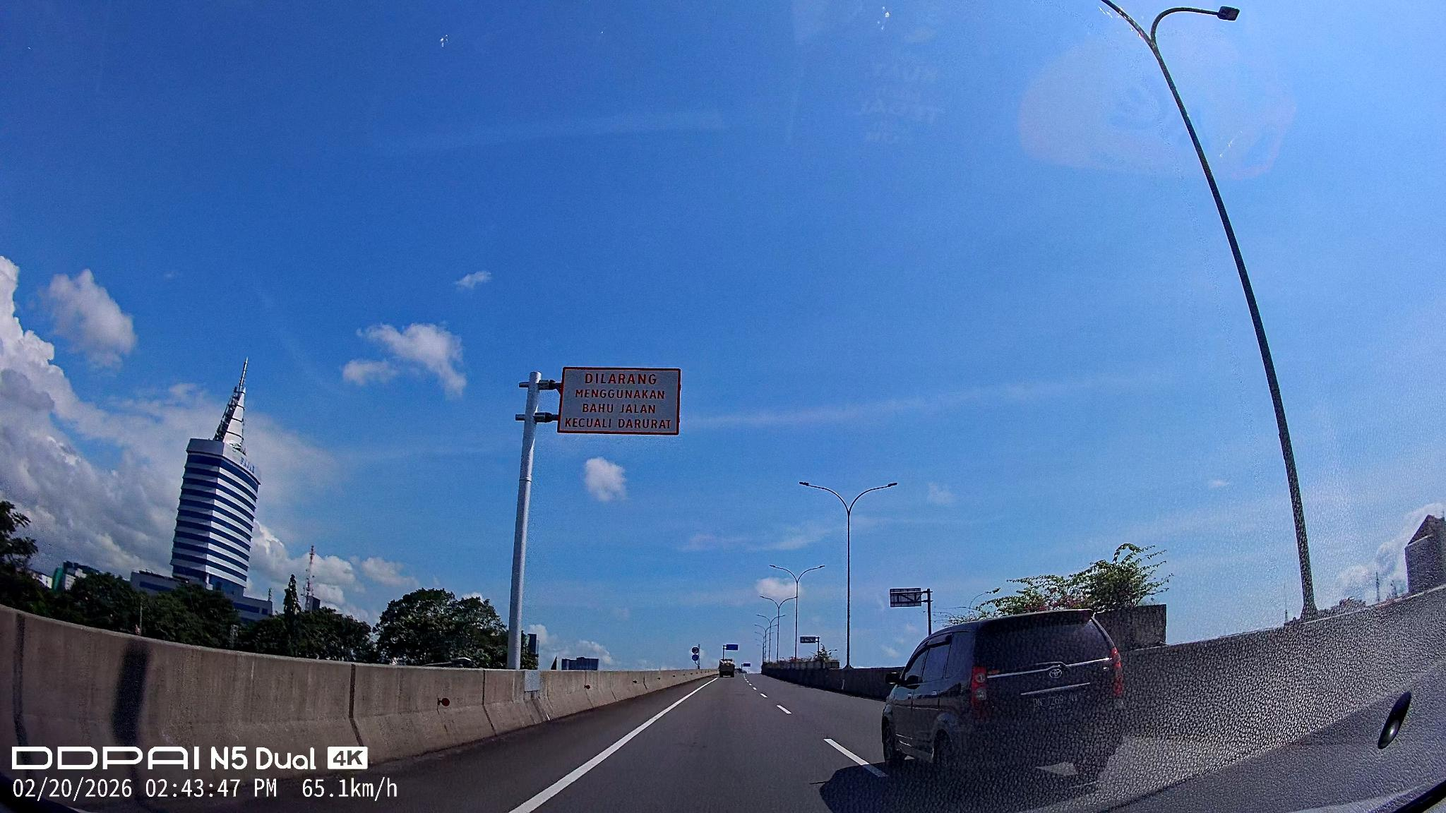rambu_teks: (556, 366, 681, 436)
